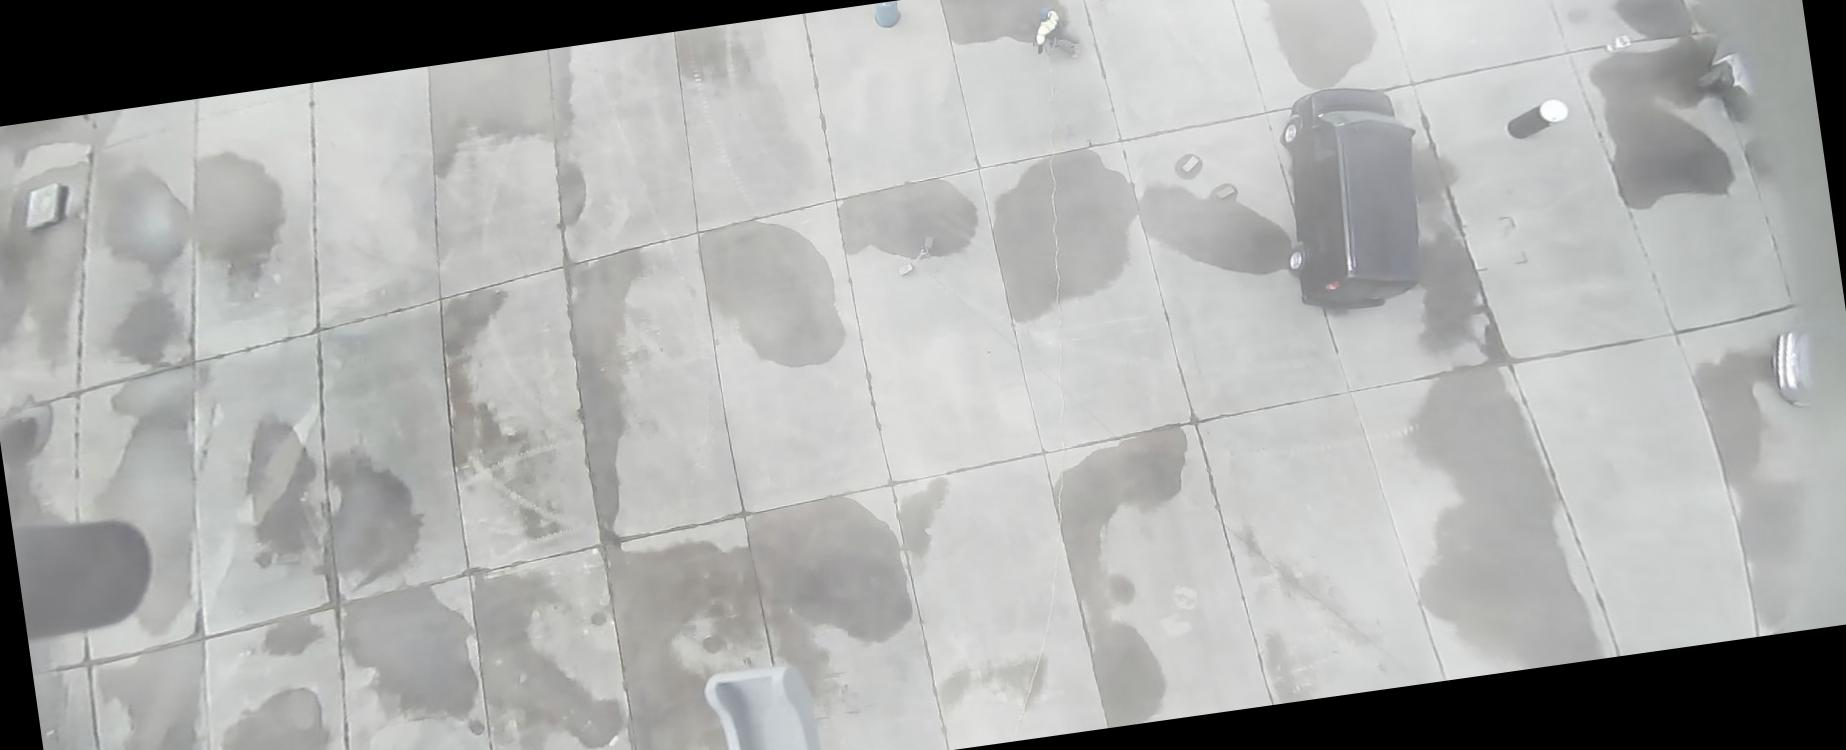vehicle: (1263, 77, 1437, 319), (1767, 328, 1826, 413)
